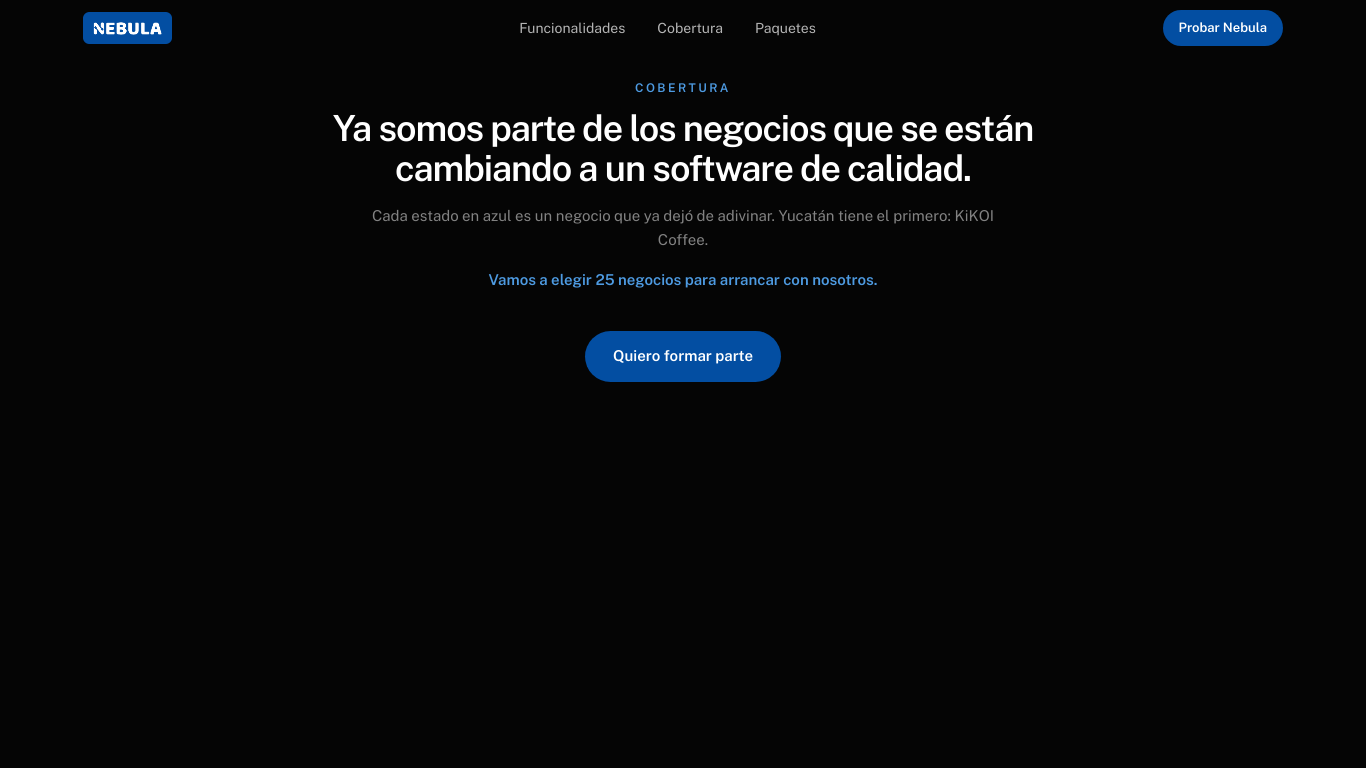
it: ofrece la campana vigente: 25 negocios con un año al 15%
This screenshot has width=1366, height=768.
Expected: the element "Cobertura" shows "vamos a elegir 25 negocios para arrancar con nosotros", [488, 271, 878, 288]
// el objetivo es capturar el negocio: abre el formulario
What coordinates should you click on to do the following:
click the button "Quiero formar parte"
I would click on:
 (683, 357)
Its box is [585, 331, 781, 382].
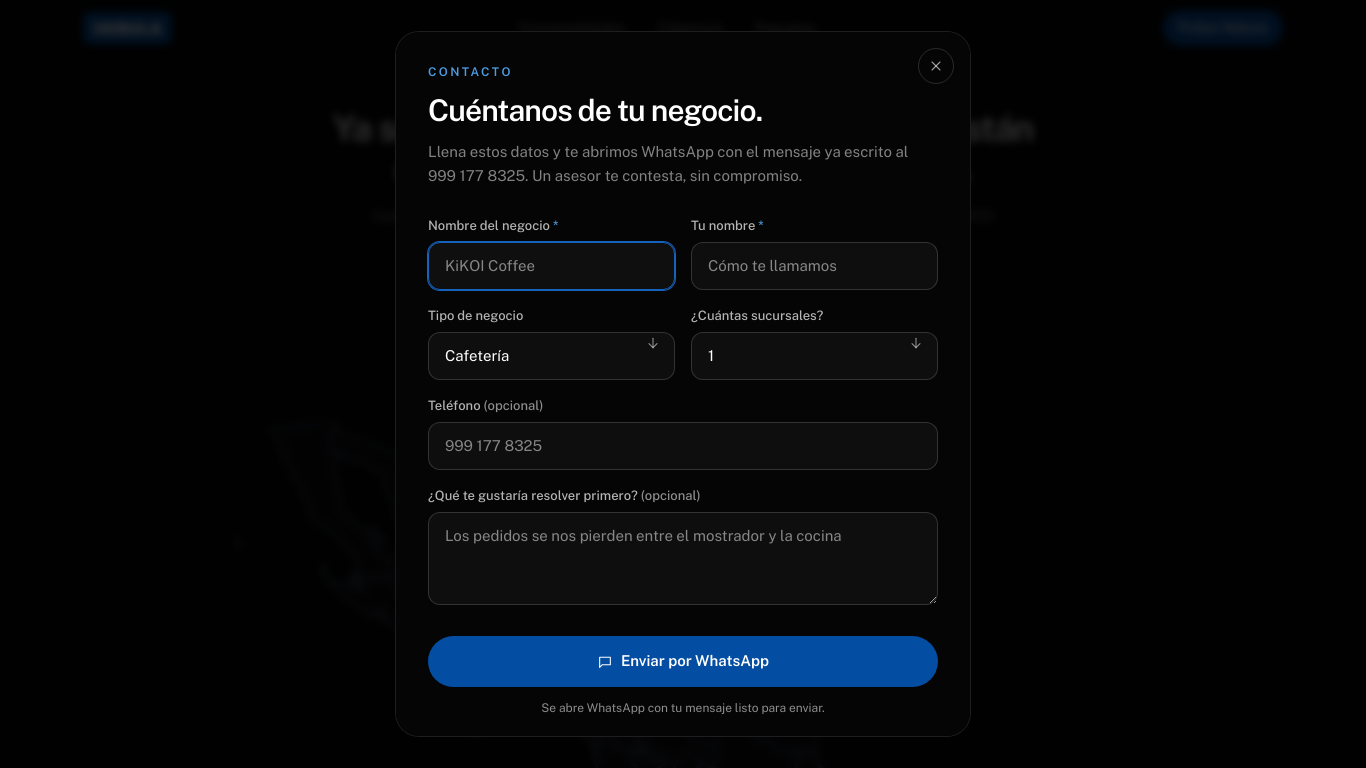
Result: the dialog "Cuéntanos de tu negocio" is shown at [395, 31, 971, 737]
